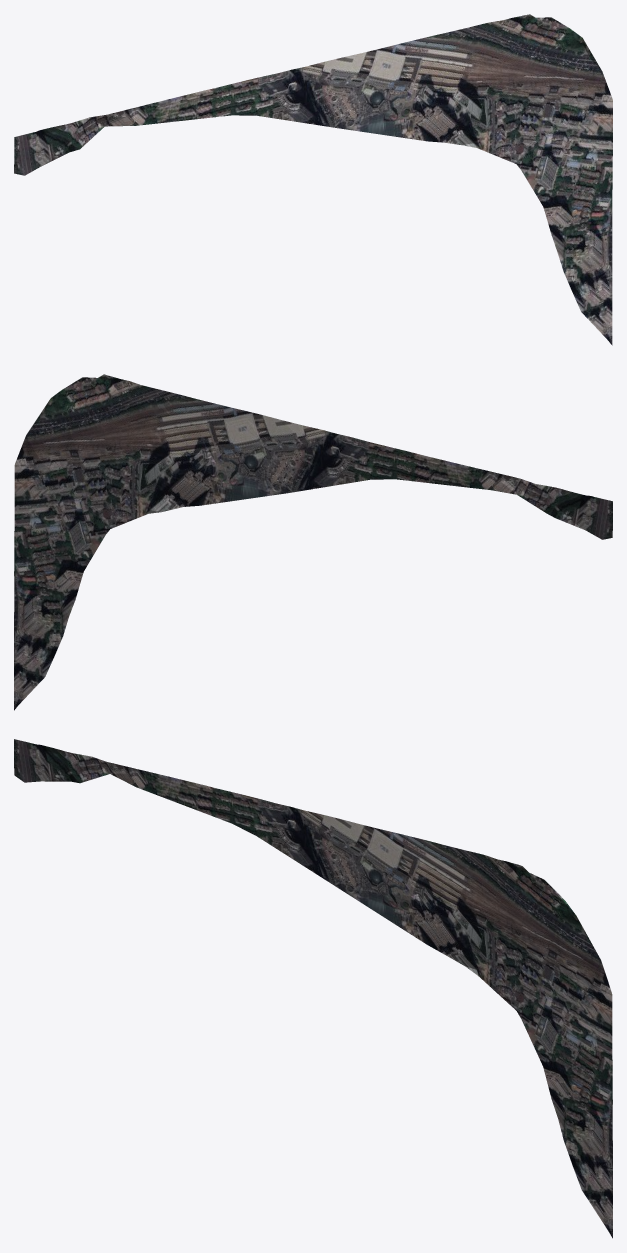
The picture shows the model from 3 angles, top to bottom: view 1: azimuth 30°, elevation 25°; view 2: azimuth 150°, elevation 25°; view 3: azimuth 330°, elevation 25°; orthographic projection.
Parts seen in each view (by area): view 1: 0_1_3_1; view 2: 0_1_3_1; view 3: 0_1_3_1.
Boxes of the visible parts, <box> form: 0_1_3_1: <box>14,14,612,345</box>; 0_1_3_1: <box>14,374,612,710</box>; 0_1_3_1: <box>14,739,612,1238</box>.
Size of the model in its own units: 1945 by 1102 by 32.93.
1 material, 1 textured.
